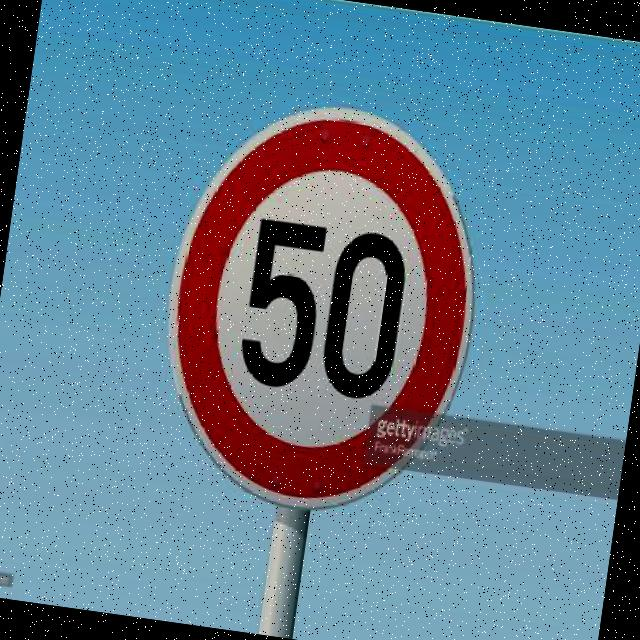Ograniczenie predkosci do 50: (148, 95, 497, 527)
